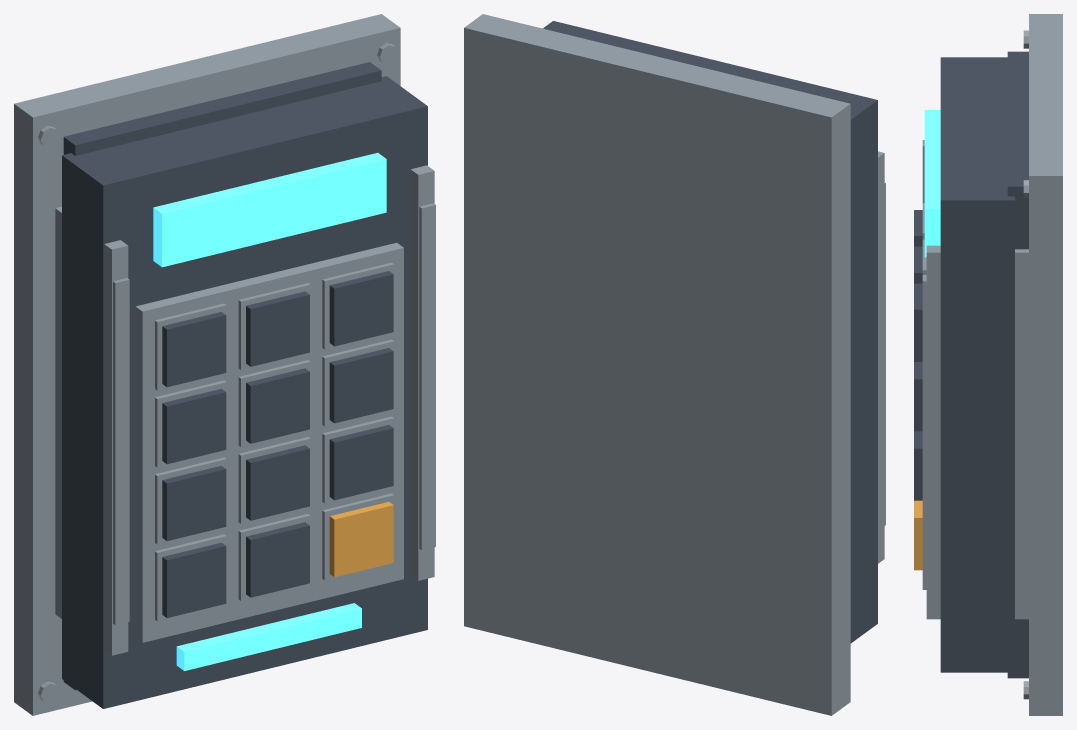
The picture shows the model from 3 angles, left to right: view 1: azimuth 30°, elevation 25°; view 2: azimuth 150°, elevation 25°; view 3: azimuth 270°, elevation 25°; orthographic projection. The views are drawn at different scales.
Visible parts, largest first — view 1: Housing, MountBacking, Keybed, HeaderLED, LeftClamp, Gasket, RightClampReinforcement, LeftClampReinforcement, RightClamp, BottomStatus, Key_10, Key_07 (+22 smaller); view 2: MountBacking, Housing, LeftClamp, LeftClampReinforcement; view 3: Housing, MountBacking, RightClamp, Gasket, HeaderLED, RightClampReinforcement, Key_03, Key_12, Key_06, Key_09, Key_02, Key_01.
Part boxes in pixels (x1,y1,x2,y2): Housing: [62, 76, 427, 708]; MountBacking: [14, 14, 400, 715]; Keybed: [135, 242, 403, 642]; HeaderLED: [153, 152, 386, 267]; LeftClamp: [55, 206, 128, 655]; Gasket: [63, 62, 381, 690]; RightClampReinforcement: [419, 203, 435, 550]; LeftClampReinforcement: [113, 278, 129, 624]; RightClamp: [410, 165, 434, 580]; BottomStatus: [176, 603, 361, 670]; Key_10: [162, 542, 226, 617]; Key_07: [162, 465, 226, 541]; MountBacking: [464, 14, 850, 715]; Housing: [543, 21, 877, 643]; LeftClamp: [878, 151, 884, 563]; LeftClampReinforcement: [884, 183, 885, 525]; Housing: [940, 57, 1014, 672]; MountBacking: [1029, 14, 1062, 715]; RightClamp: [926, 245, 1028, 619]; Gasket: [1007, 51, 1028, 678]; HeaderLED: [924, 110, 940, 257]; RightClampReinforcement: [922, 275, 926, 589]; Key_03: [914, 283, 922, 361]; Key_12: [914, 500, 922, 570]; Key_06: [914, 362, 922, 431]; Key_09: [914, 431, 922, 500]; Key_02: [914, 246, 922, 283]; Key_01: [914, 210, 922, 246].
Size of the model in its own units: 0.18 by 0.28 by 0.07.
